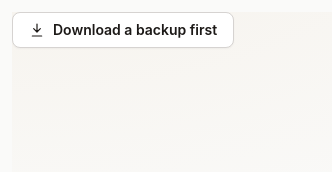
it: BackupButton › announces why nothing was downloaded
Click the button "Download a backup first" at (123, 30), box top-left (12, 12), bottom-right (234, 48)
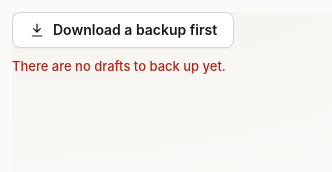
Expected: the message reads "There are no drafts to back up yet.", top-left (12, 58), bottom-right (226, 74)
